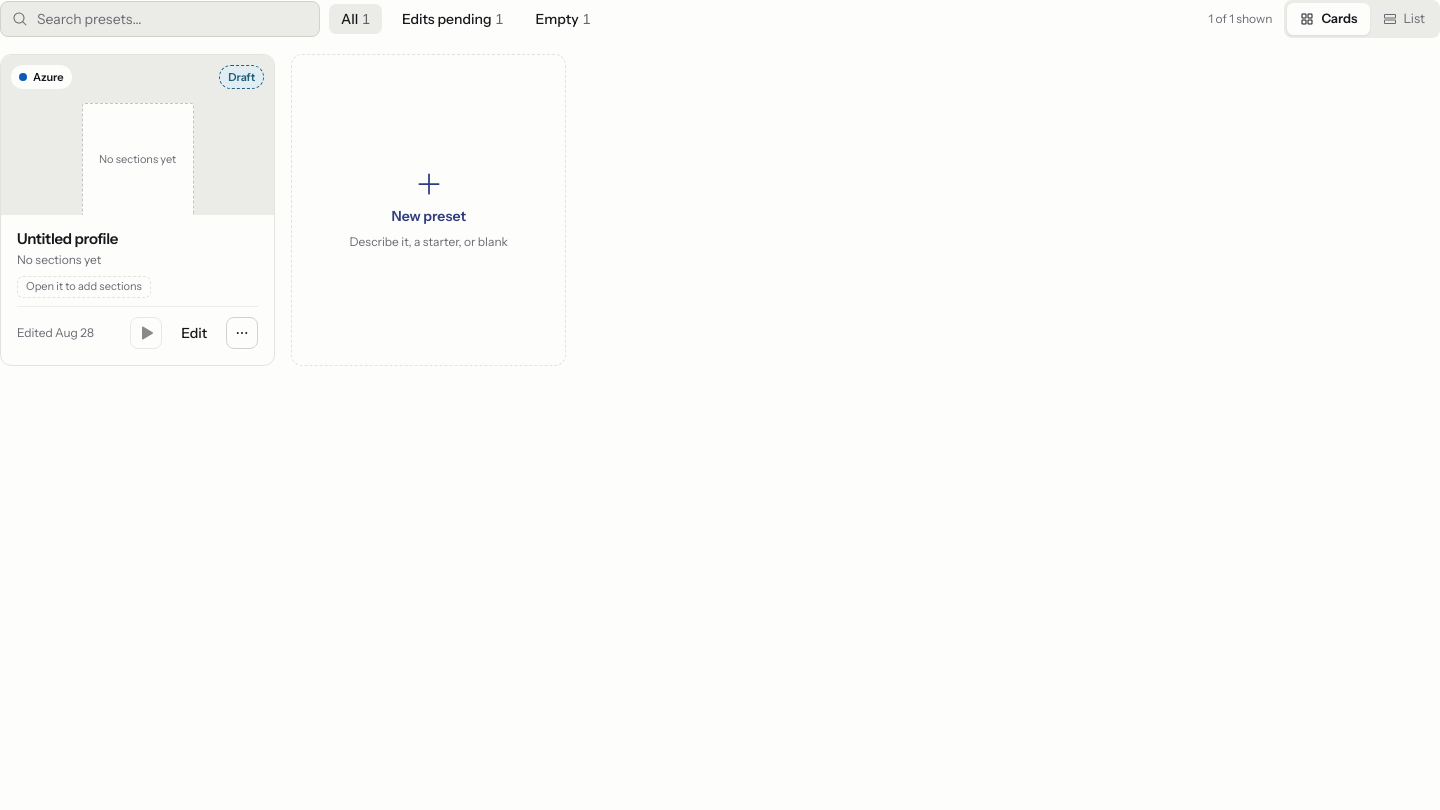
Test: deleting › a 204 closes the dialog
Click the button "List".
click(1403, 19)  # box [1370, 3, 1437, 35]
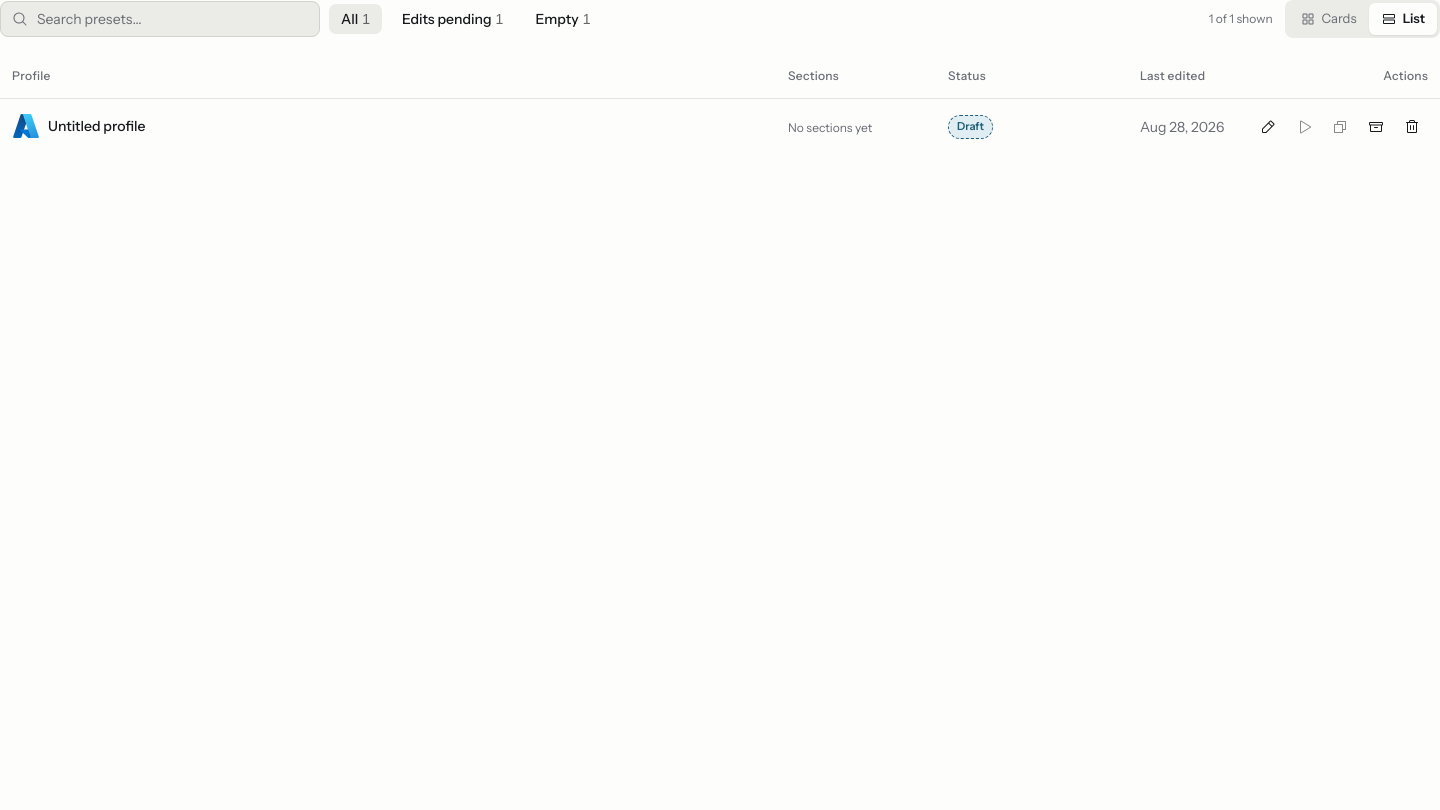
Click the button named "Delete Untitled profile".
click(1412, 126)  # box [1396, 110, 1428, 142]
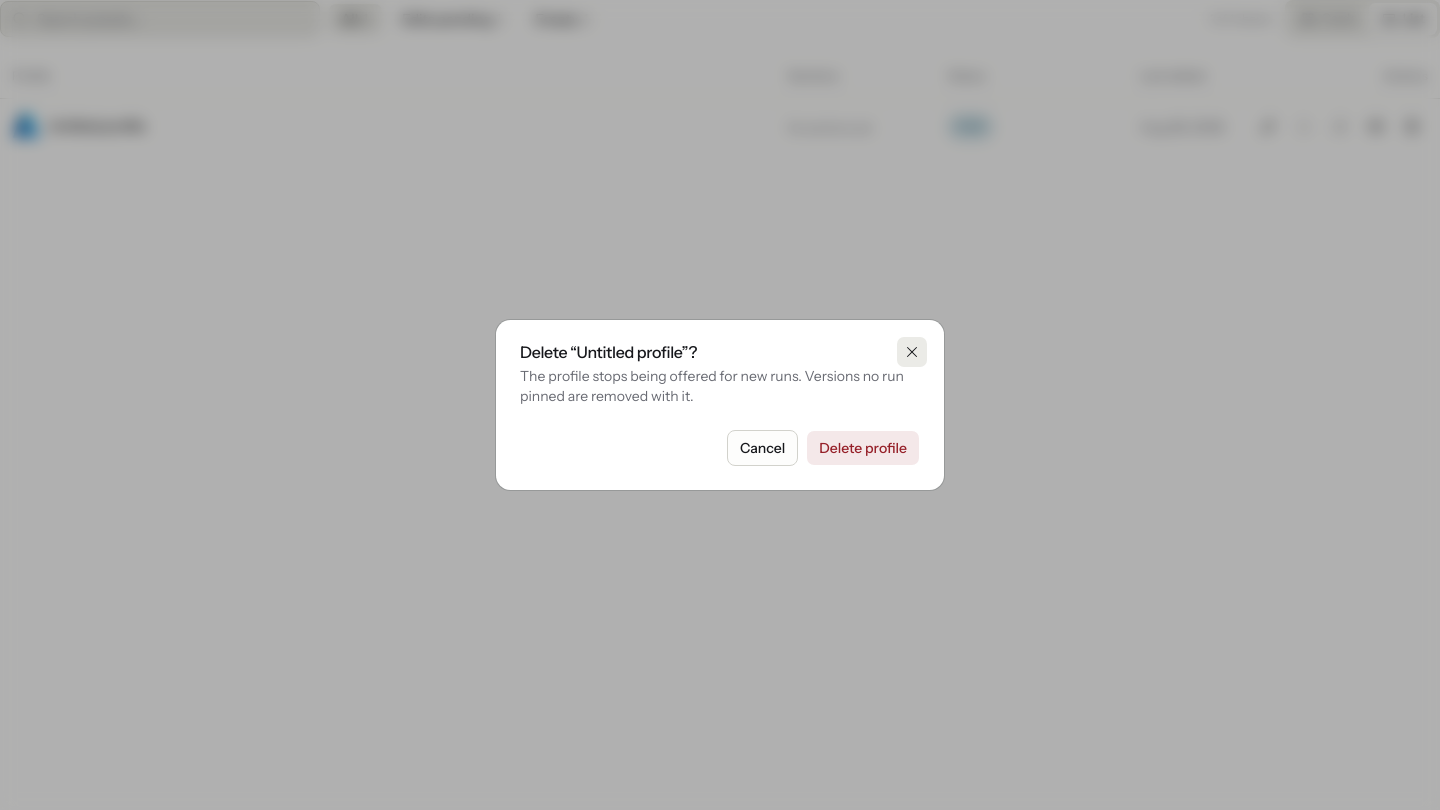
Check: the heading "Delete “Untitled profile”?" is shown, box [520, 342, 697, 362]
Click the button "Delete profile".
click(863, 448)  # box [806, 430, 920, 466]
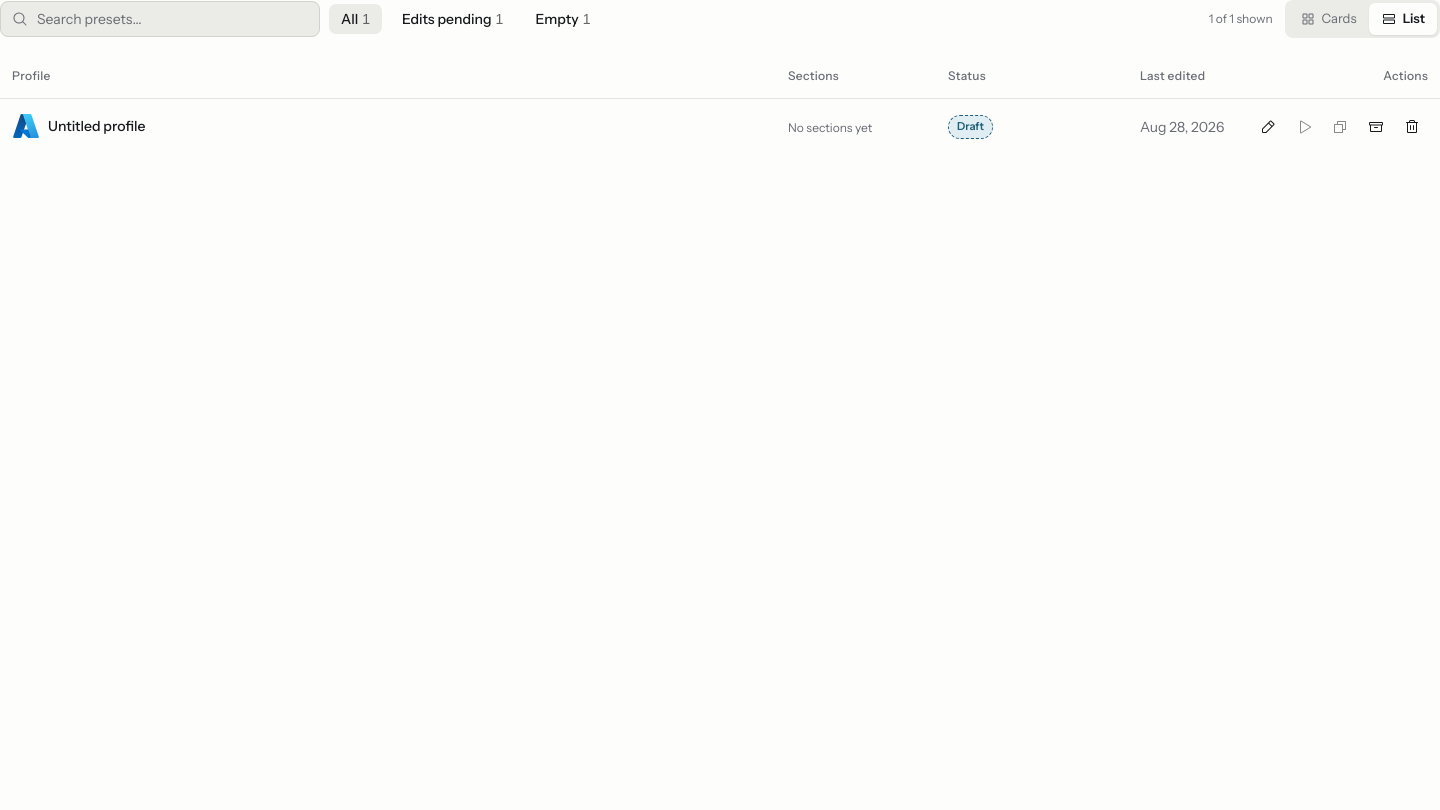
Check: the heading "Delete .Untitled profile" is gone
